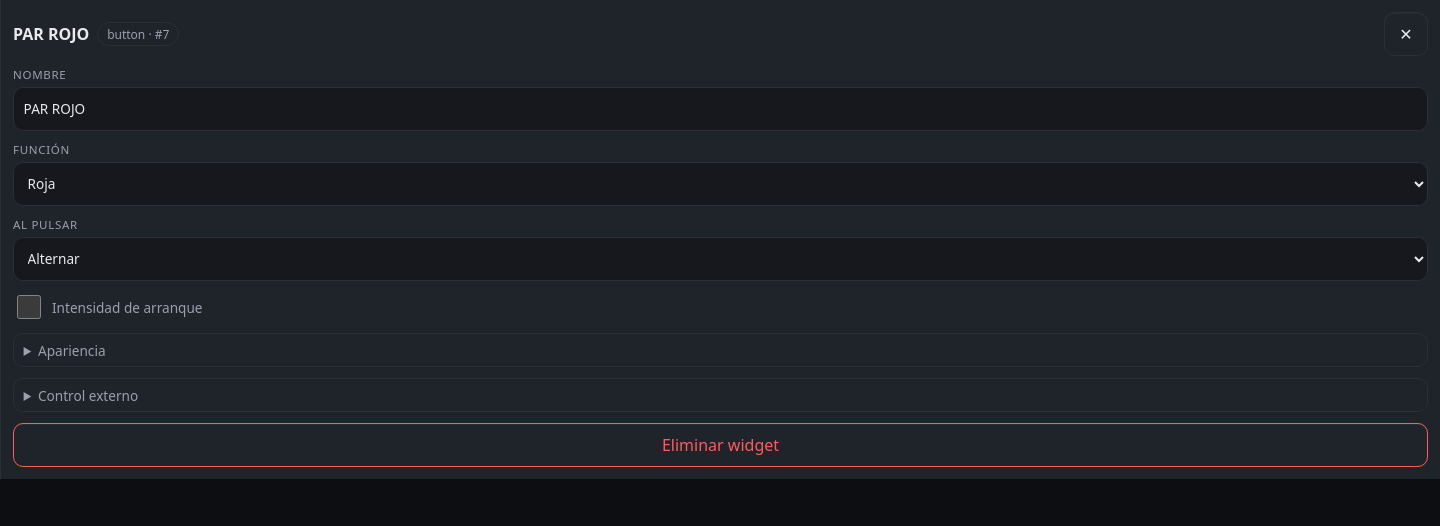
it: a button in the editor › shows the daemon refusal and lets the operator try again
Select "Azul" in the dropdown showing "Roja": (720, 184) [13, 162, 1428, 206]
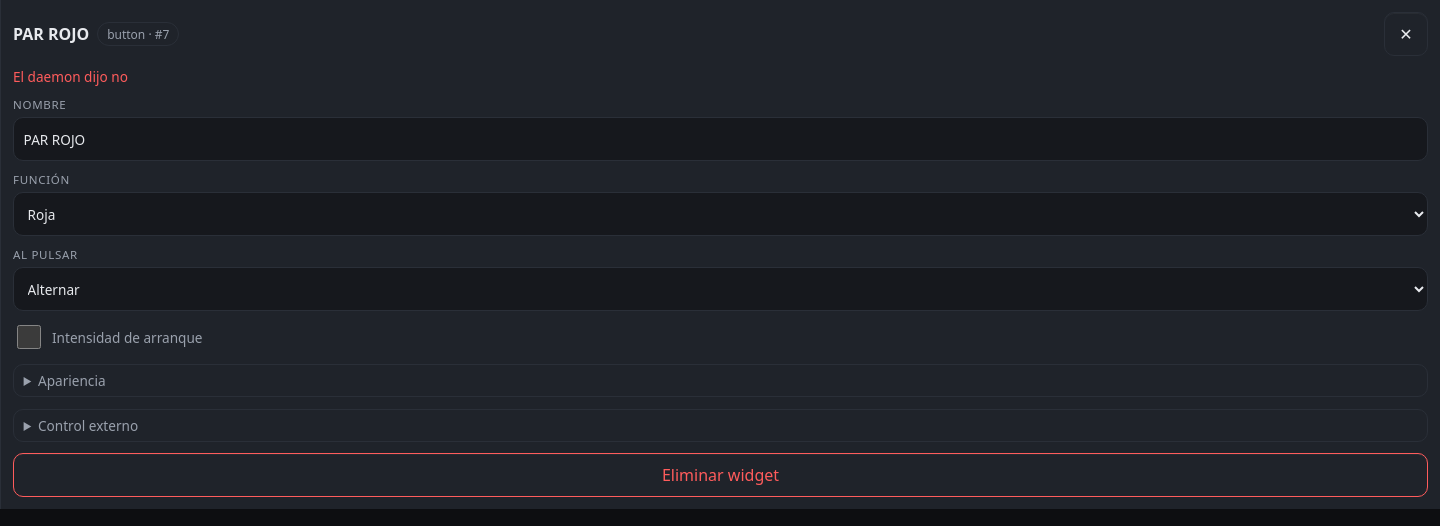
Check: the field labelled "Nombre" is enabled, box [13, 117, 1428, 161]
Check: the text "El daemon dijo no" is shown, box [13, 67, 128, 86]
